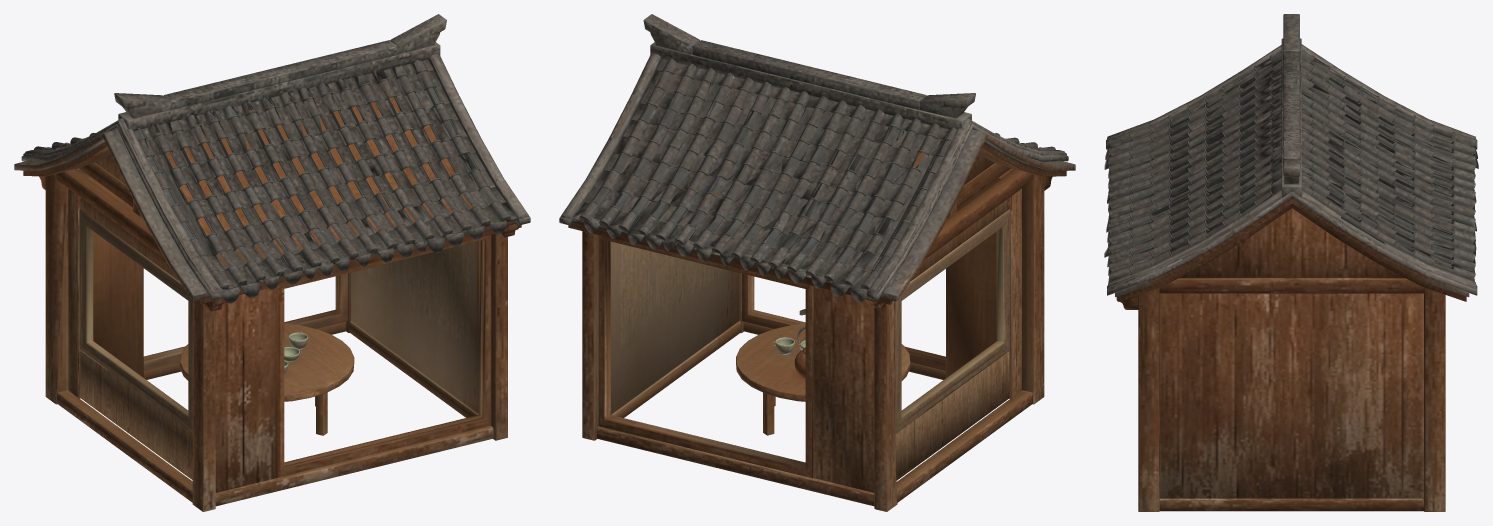
File: station_1.glb
The picture shows the model from 3 angles, left to right: view 1: azimuth 30°, elevation 25°; view 2: azimuth 150°, elevation 25°; view 3: azimuth 270°, elevation 25°; orthographic projection. The views are drawn at different scales.
Parts seen in each view (by area): view 1: tripo_node_89cdf486-2f22-4ece-9744-5ecfbc617700; view 2: tripo_node_89cdf486-2f22-4ece-9744-5ecfbc617700; view 3: tripo_node_89cdf486-2f22-4ece-9744-5ecfbc617700.
Boxes of the visible parts, x1,y1,x2,y2 form: tripo_node_89cdf486-2f22-4ece-9744-5ecfbc617700: (14, 14, 530, 511); tripo_node_89cdf486-2f22-4ece-9744-5ecfbc617700: (559, 14, 1075, 511); tripo_node_89cdf486-2f22-4ece-9744-5ecfbc617700: (1104, 14, 1478, 511).
Bounding box in the file's own units: 0.9858 × 0.9995 × 0.9683.
Materials: 1 (1 with a texture image).
